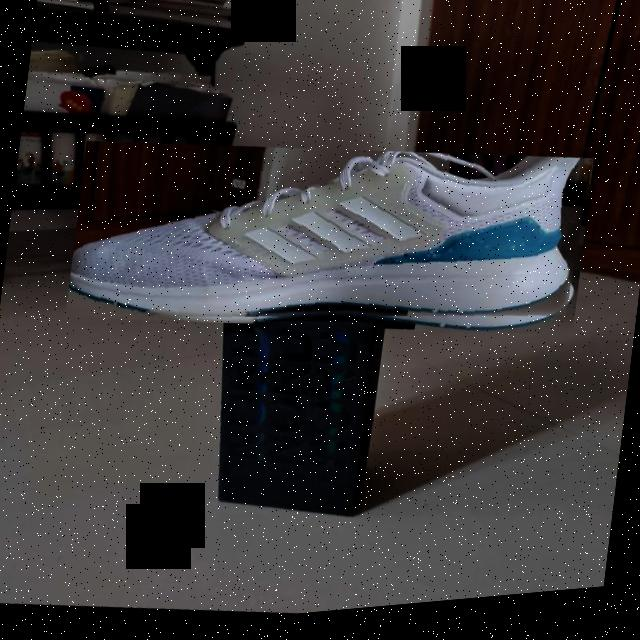shoe: (64, 106, 594, 380)
